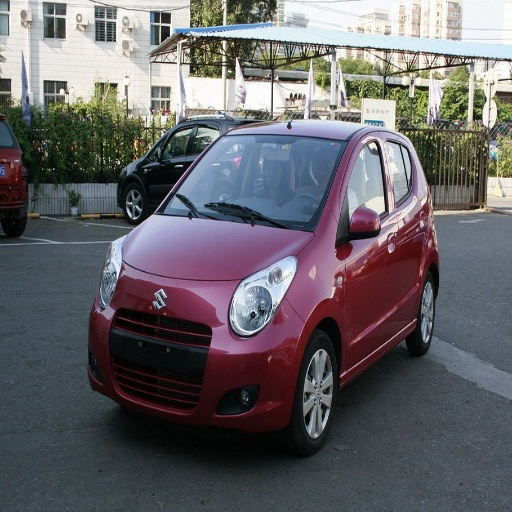front_bumper: (90, 265, 306, 428)
front_glass: (153, 134, 346, 231)
front_left_door: (342, 131, 397, 366)
